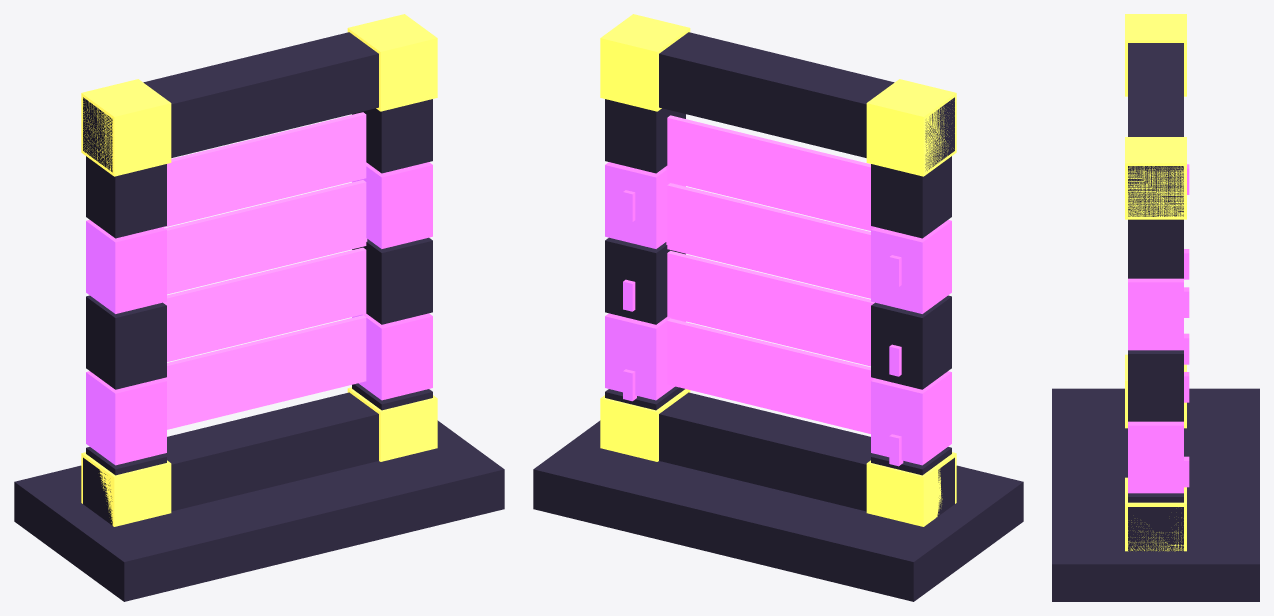
The model's file is cloud_fortress.glb.
3 renders of one model, left to right at view 1: azimuth 30°, elevation 25°; view 2: azimuth 150°, elevation 25°; view 3: azimuth 270°, elevation 25°, orthographic. The views are drawn at different scales.
Visible parts, largest first — view 1: base_plinth, beam_top, beam_bot, portal_1, portal_0, portal_2, portal_3, gold_top_-1, pillar_-1_1, pillar_-1_2, pillar_-1_3, gold_top_1 (+9 smaller); view 2: base_plinth, beam_top, beam_bot, portal_3, portal_1, portal_0, portal_2, gold_top_-1, pillar_-1_1, pillar_-1_2, pillar_-1_3, gold_top_1 (+9 smaller); view 3: base_plinth, beam_top, gold_top_1, pillar_1_1, pillar_1_3, pillar_1_2, pillar_1_4, beam_bot, gold_top_-1, gold_bot_1, pillar_1_0, gold_bot_-1.
Part boxes in pixels (x1,y1,x2,y2): base_plinth: [14, 420, 504, 601]; beam_top: [83, 32, 378, 172]; beam_bot: [83, 392, 378, 525]; portal_1: [163, 247, 366, 361]; portal_0: [163, 315, 366, 429]; portal_2: [165, 180, 367, 294]; portal_3: [163, 112, 367, 227]; gold_top_-1: [81, 79, 171, 176]; pillar_-1_1: [86, 371, 166, 465]; pillar_-1_2: [86, 295, 166, 389]; pillar_-1_3: [86, 220, 166, 313]; gold_top_1: [347, 14, 437, 111]; base_plinth: [533, 420, 1023, 601]; beam_top: [659, 32, 954, 170]; beam_bot: [659, 392, 954, 517]; portal_3: [666, 115, 874, 230]; portal_1: [667, 250, 874, 366]; portal_0: [667, 318, 874, 433]; portal_2: [666, 183, 870, 298]; gold_top_-1: [866, 79, 956, 176]; pillar_-1_1: [871, 371, 951, 465]; pillar_-1_2: [871, 295, 951, 389]; pillar_-1_3: [871, 220, 951, 313]; gold_top_1: [600, 14, 690, 111]; base_plinth: [1052, 388, 1259, 601]; beam_top: [1128, 43, 1183, 216]; gold_top_1: [1125, 137, 1186, 219]; pillar_1_1: [1128, 421, 1183, 493]; pillar_1_3: [1128, 278, 1183, 350]; pillar_1_2: [1128, 350, 1183, 421]; pillar_1_4: [1128, 219, 1183, 278]; beam_bot: [1128, 507, 1183, 551]; gold_top_-1: [1125, 14, 1186, 96]; gold_bot_1: [1125, 477, 1186, 551]; pillar_1_0: [1128, 493, 1183, 502]; gold_bot_-1: [1125, 354, 1186, 428].
Size of the model in its own units: 4 by 4.52 by 2.
